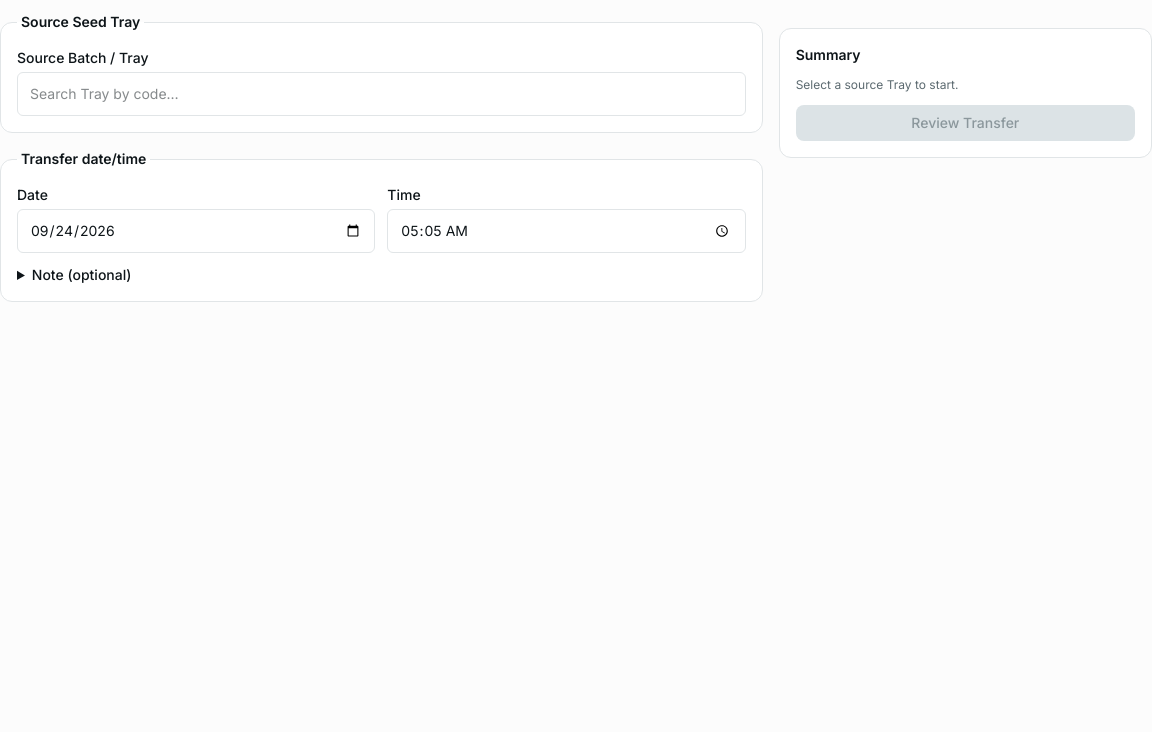
Test: IntervinesTransplantForm › shows a Grow Cube specification picker when more than one pool exists
Focus the dropdown labelled "Source Batch / Tray" at coordinates (381, 94), box [17,72,746,116]
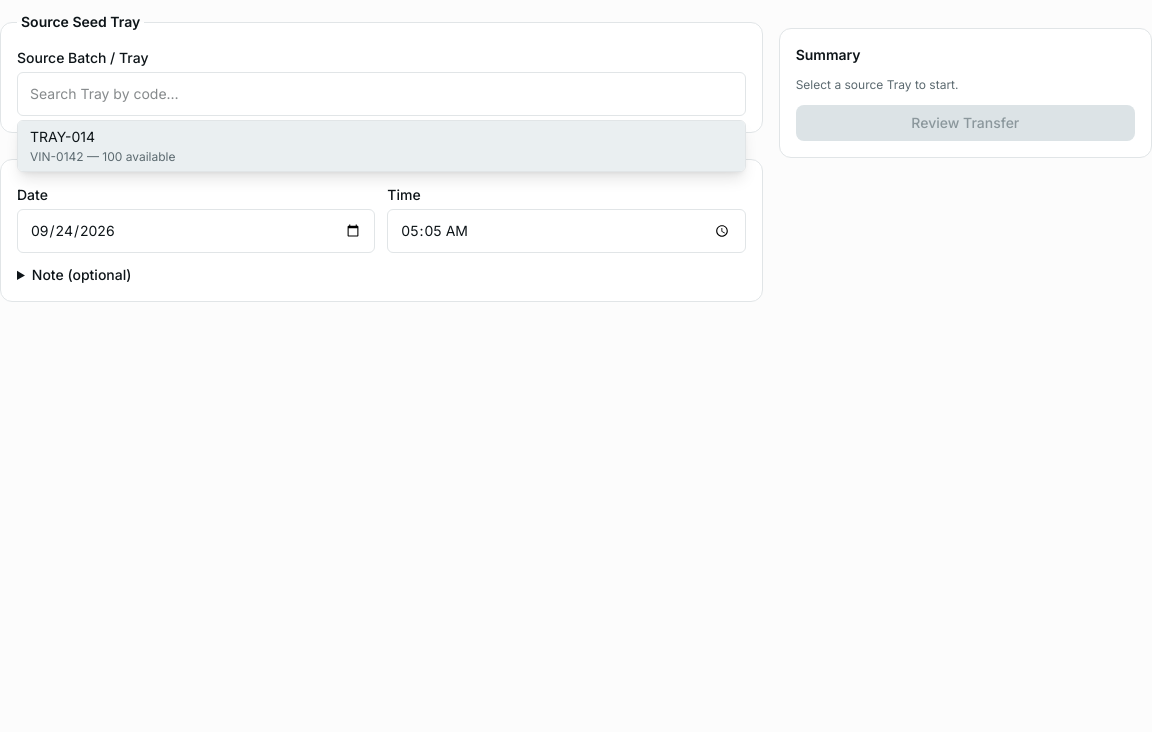
Click the text "TRAY-014".
click(63, 137)  # box [30,127,95,147]
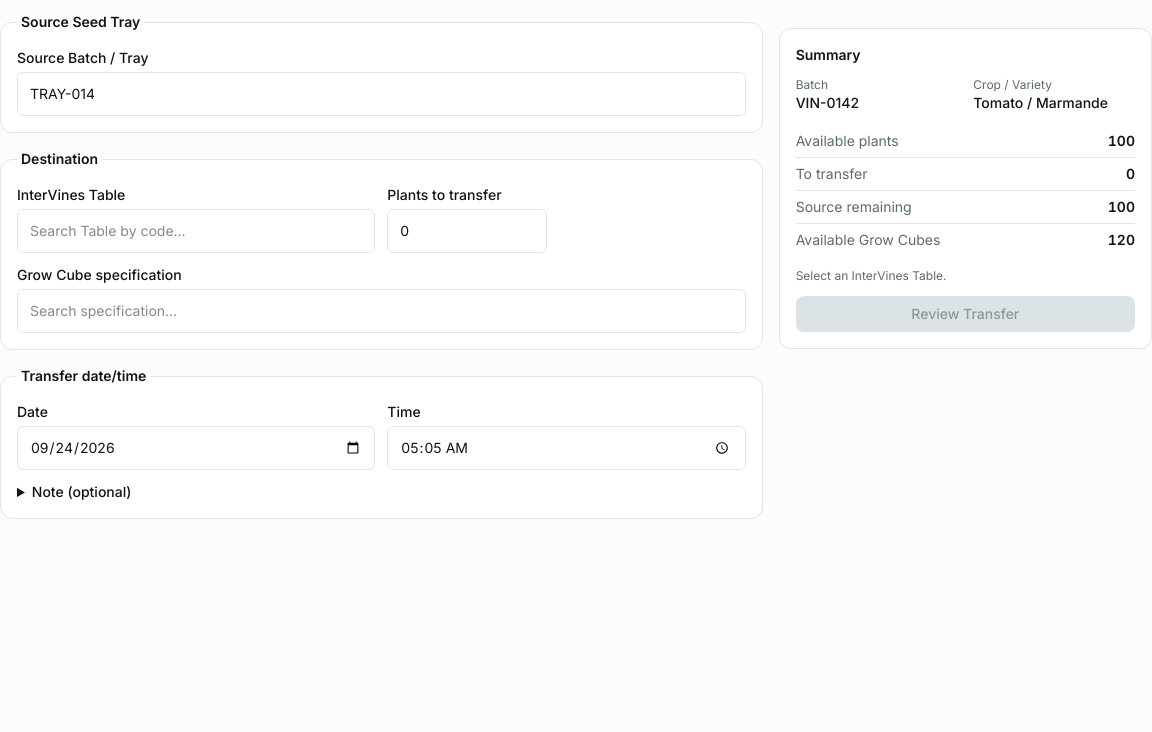
Check: the dropdown labelled "Grow Cube specification" is shown
Focus the dropdown labelled "Grow Cube specification" at coordinates (381, 311), box [17,289,746,333]
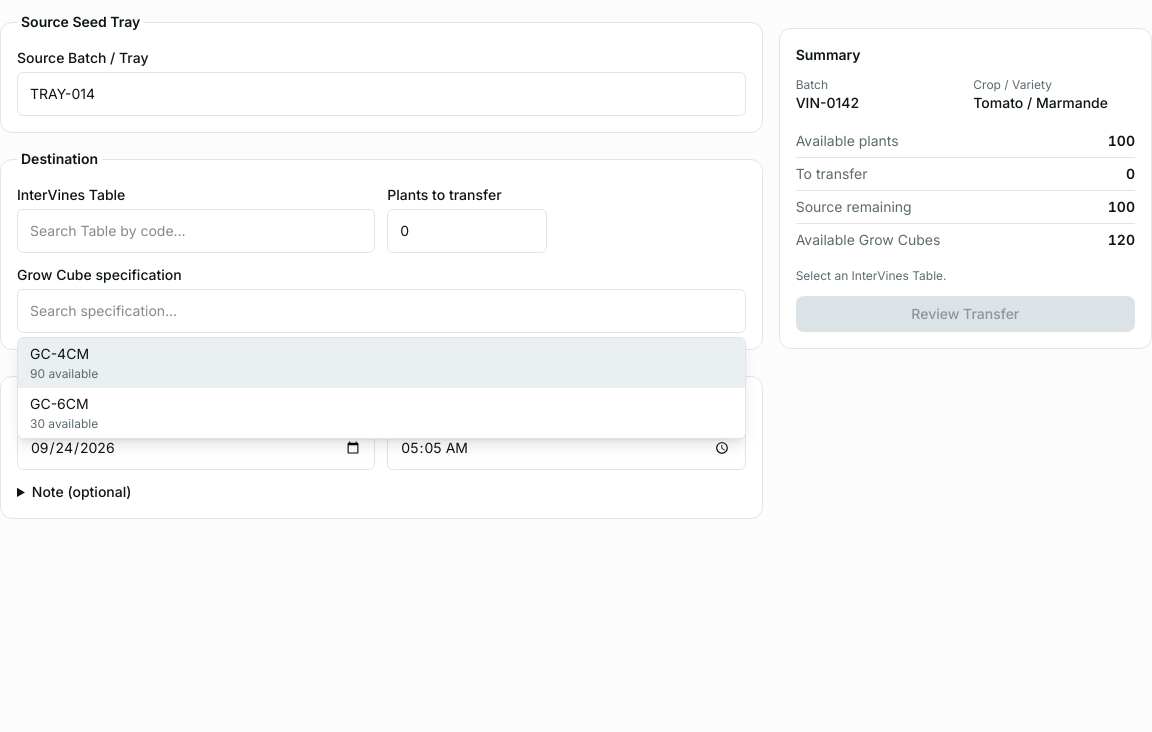
Click the text "GC-4CM".
click(60, 354)  # box [30,344,89,364]
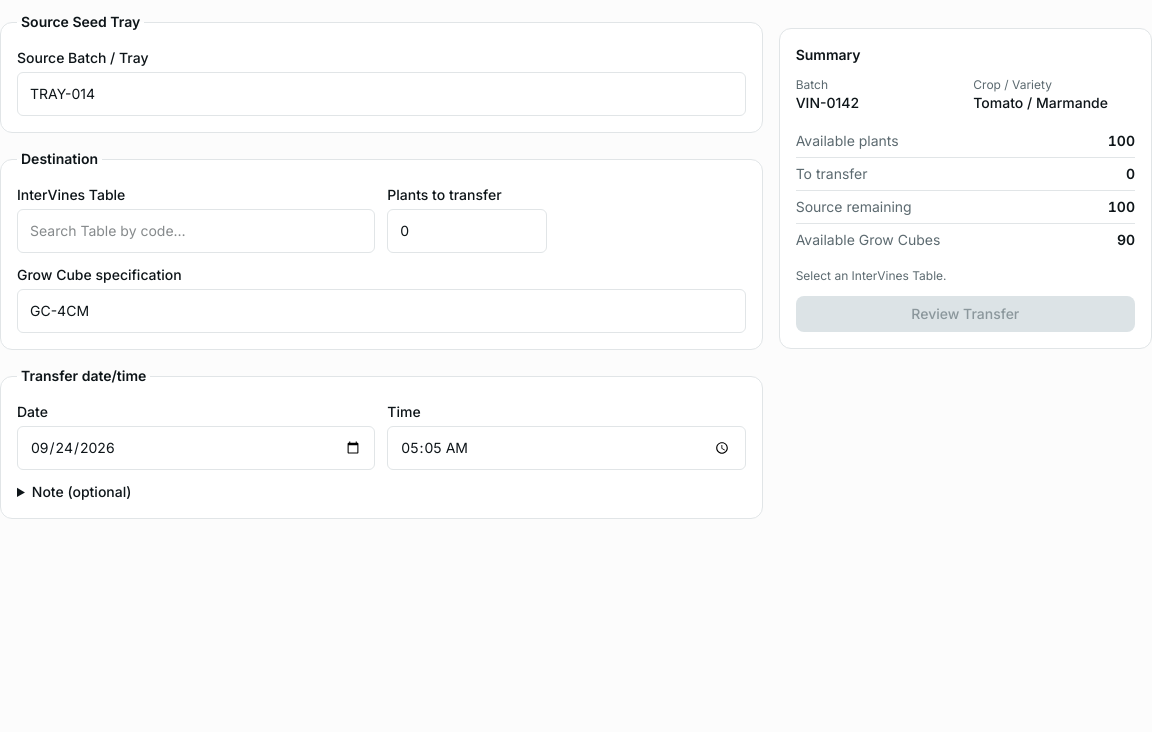
Check: the text "90" is shown, box [1117,230,1135,250]
